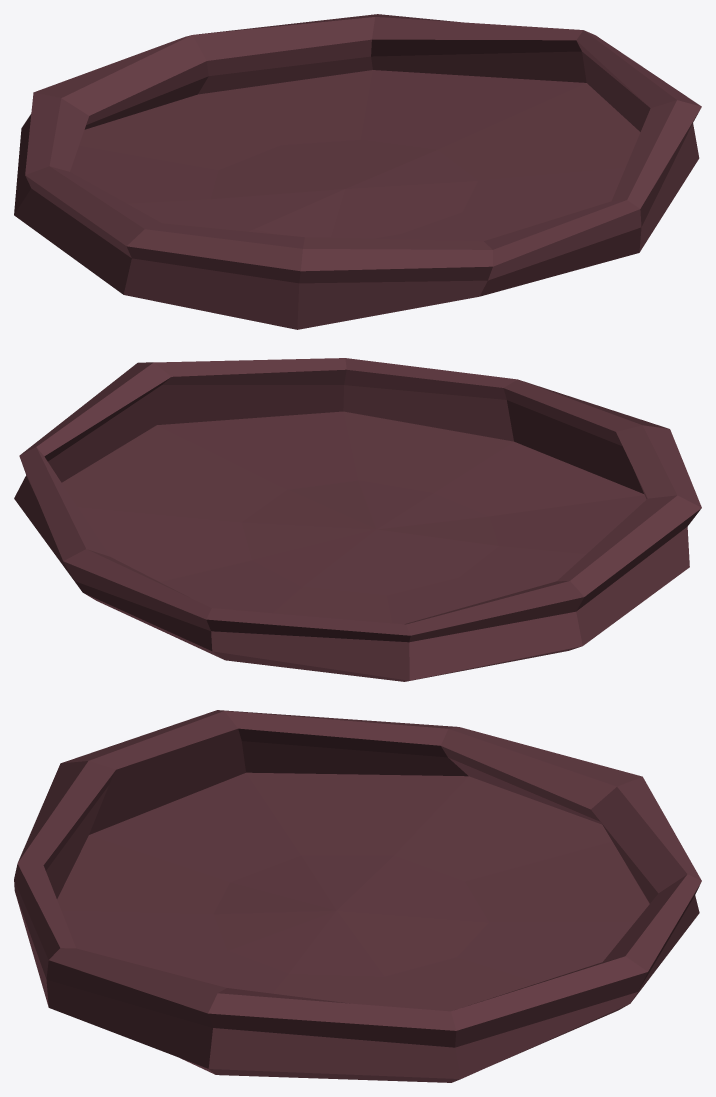
The model's file is pool-inflatable-drained.fbx.
The picture shows the model from 3 angles, top to bottom: view 1: azimuth 30°, elevation 25°; view 2: azimuth 150°, elevation 25°; view 3: azimuth 270°, elevation 25°; orthographic projection. The views are drawn at different scales.
Visible parts, largest first — view 1: pool-inflatable-drained; view 2: pool-inflatable-drained; view 3: pool-inflatable-drained.
Boxes of the visible parts, x1,y1,x2,y2 form: pool-inflatable-drained: (14,14,701,329); pool-inflatable-drained: (14,358,701,681); pool-inflatable-drained: (14,710,701,1082).
Size of the model in its own units: 3.15 by 0.3951 by 2.93.
